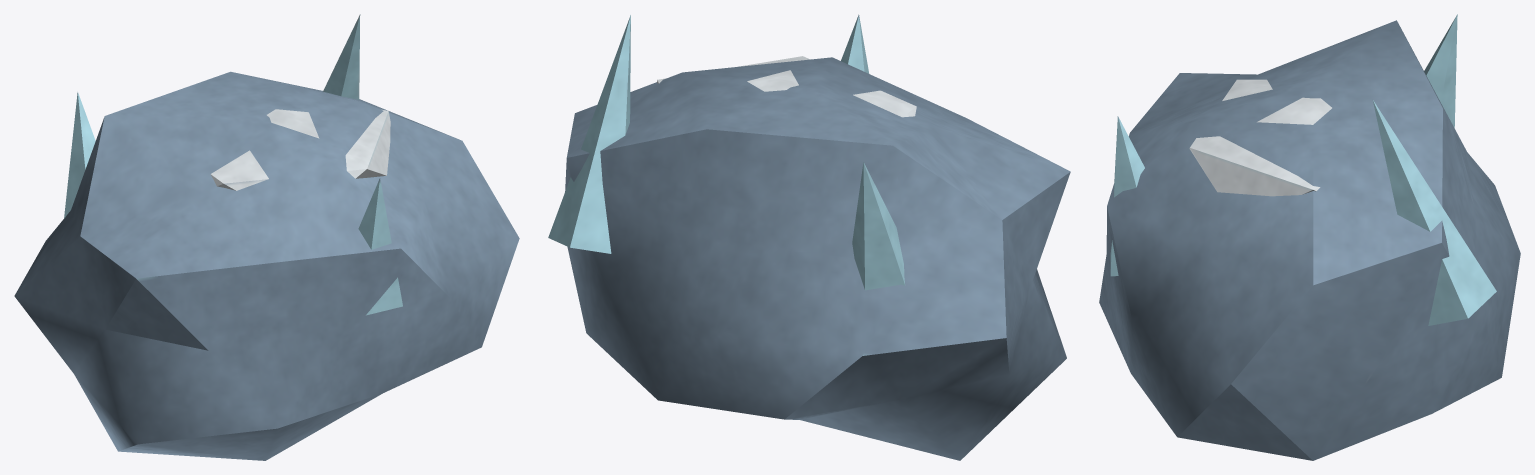
File: frozen_rock.fbx
3 renders of one model, left to right at view 1: azimuth 30°, elevation 25°; view 2: azimuth 150°, elevation 25°; view 3: azimuth 270°, elevation 25°, orthographic. The views are drawn at different scales.
Visible parts, largest first — view 1: Frozen_rock; view 2: Frozen_rock; view 3: Frozen_rock.
Boxes of the visible parts, x1,y1,x2,y2 form: Frozen_rock: (14, 14, 519, 460); Frozen_rock: (548, 14, 1070, 460); Frozen_rock: (1099, 14, 1520, 460).
Bounding box in the file's own units: 2.86 × 2.2 × 2.09.
Materials: 1 (1 with a texture image).
